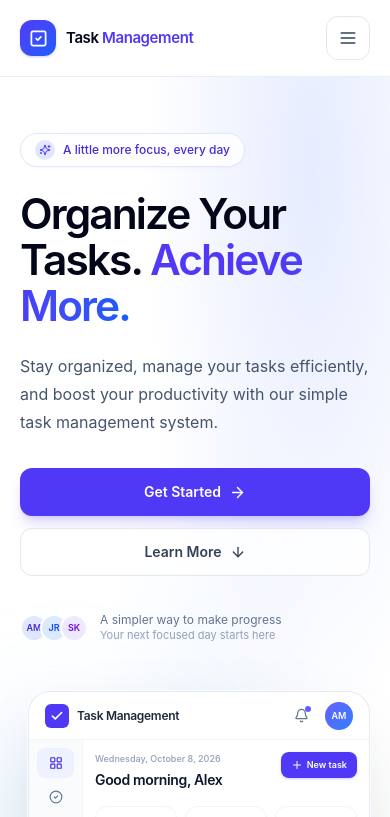
it: landing page › opens the mobile navigation and closes it after choosing a section
The width and height of the screenshot is (390, 817).
Click the button named "Open menu" at (348,38), box [326,16,370,60]
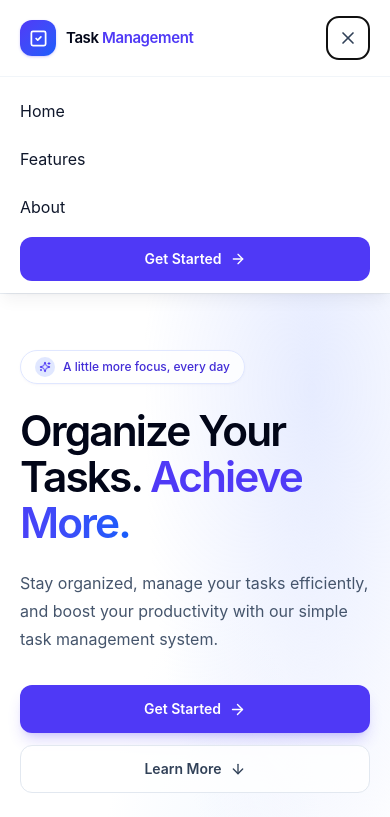
Expected: the button named "Open menu" is expanded, [326,16,370,60]
Click the link "Features" at (53,159), box [20,149,86,169]
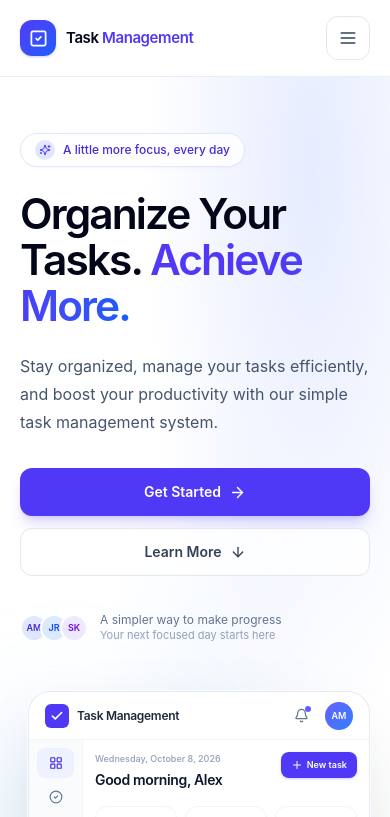
Expected: the button named "Open menu" is collapsed, [326,16,370,60]
